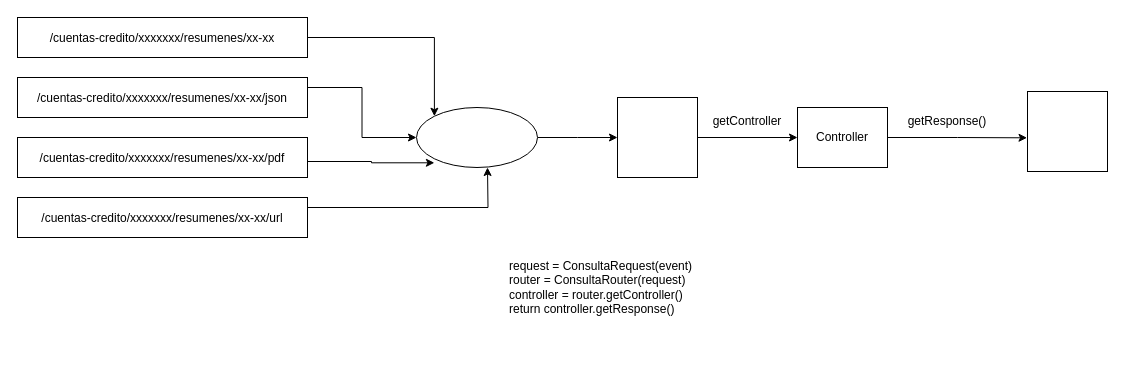
This 1125x365 diagram has some shape labels left out. The shapes that lost their labels are listed below. From the top down, each one's centre as x and y in pixels, then its label:
At [477,137]: "ConsultaRequest".
At [657,137]: "Router".
At [1067,131]: "XReponse".
